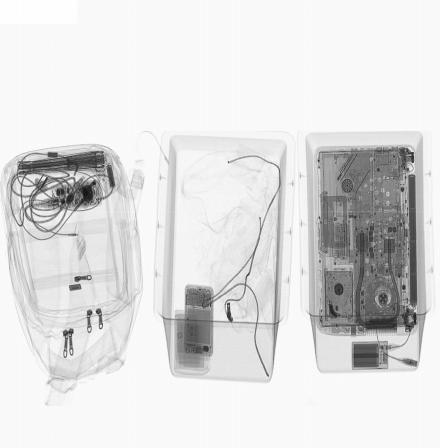Powerbank: (351, 340, 389, 371)
